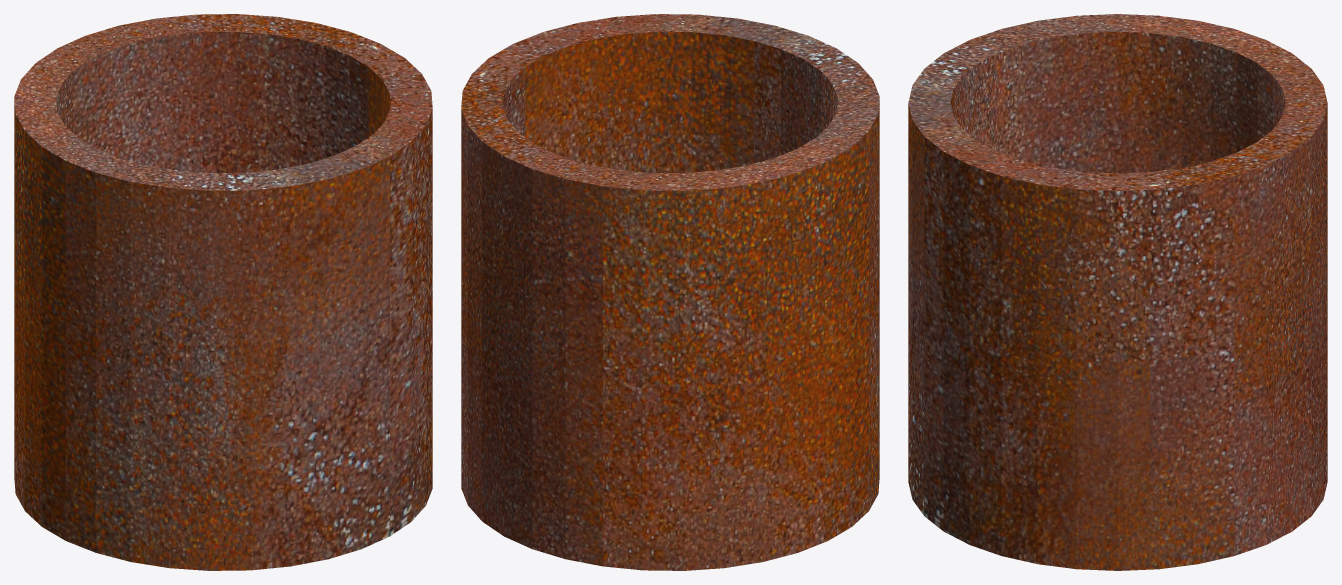
Rendered from Pipe.obj.
3 renders of one model, left to right at view 1: azimuth 30°, elevation 25°; view 2: azimuth 150°, elevation 25°; view 3: azimuth 270°, elevation 25°, orthographic.
Visible parts, largest first — view 1: Cylinder; view 2: Cylinder; view 3: Cylinder.
Part boxes in pixels (left/top/right/bottom): Cylinder: left=14, top=14, right=432, bottom=570; Cylinder: left=461, top=14, right=879, bottom=570; Cylinder: left=908, top=14, right=1327, bottom=570.
Size of the model in its own units: 2 by 2 by 2.
1 material, 1 textured.
